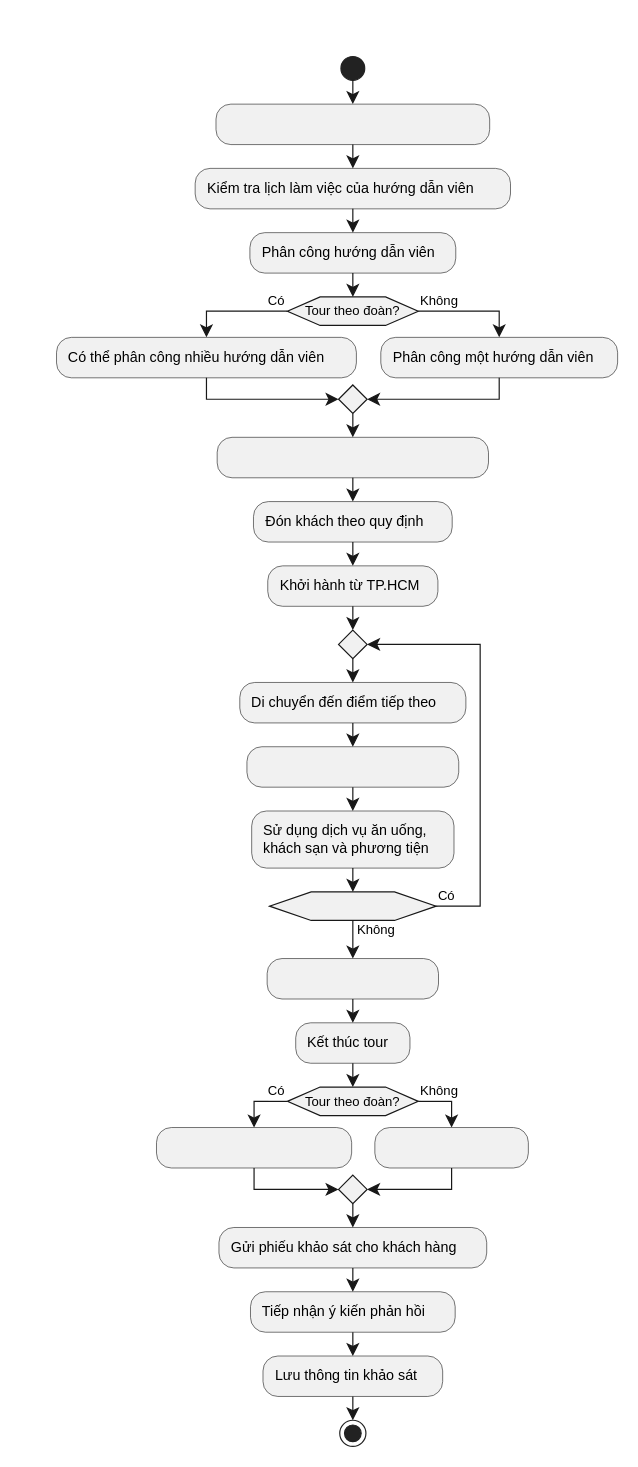
Some shapes in this 638 by 1467 pixel diagram are drawn without their labels. The centre of each missing label's shape, as x and y in pixels:
Chuẩn bị phương tiện và lịch trình: pixel 352 457
Còn điểm tham quan?: pixel 352 905
Di chuyển về TP.HCM: pixel 352 978
Hoàn tất chuyến đi: pixel 451 1147
Tham quan theo lịch trình: pixel 352 766
Thu phần chi phí còn lại: pixel 253 1147
Tiếp nhận đăng ký tour đã xác nhận: pixel 352 123
